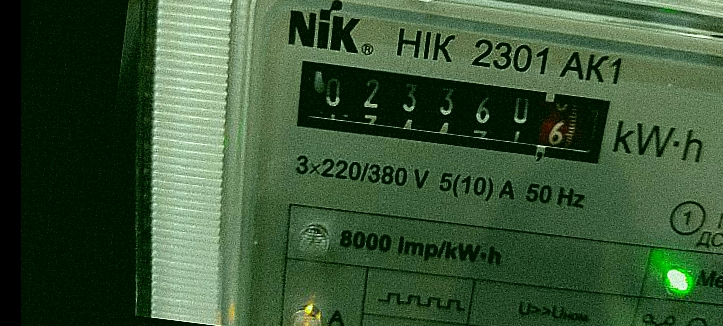0: (320, 73, 345, 108), (511, 93, 531, 125)
2: (358, 74, 385, 111)
3: (396, 79, 421, 113), (435, 83, 458, 116)
6: (470, 91, 494, 125), (543, 115, 568, 146)
screen: (274, 40, 626, 181)
